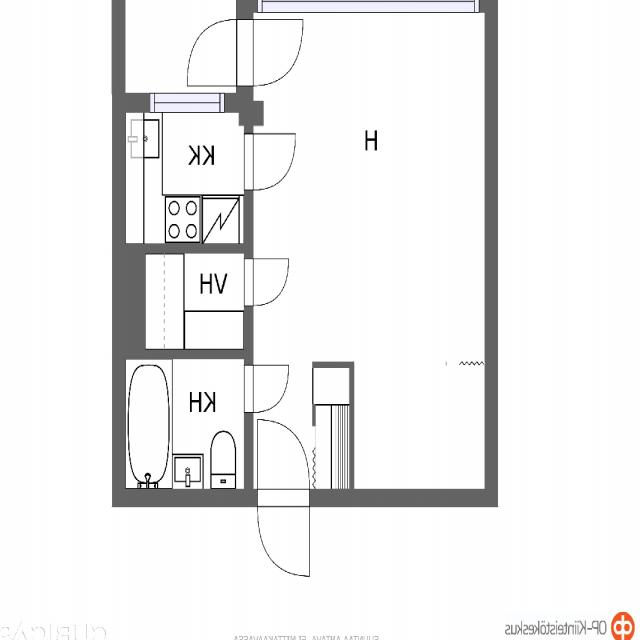door: (257, 489, 309, 576), (257, 419, 309, 506), (236, 20, 302, 85), (187, 20, 253, 85), (244, 134, 295, 188), (244, 258, 289, 306), (244, 365, 289, 412)
